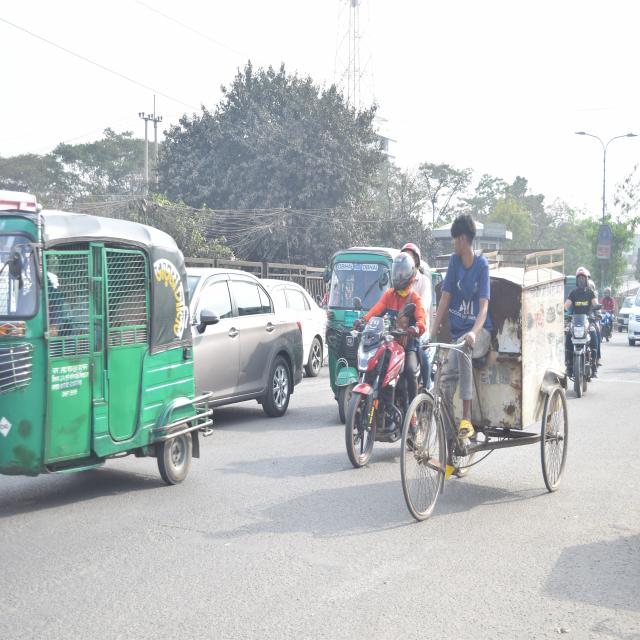car: (180, 258, 303, 428), (286, 262, 328, 384), (627, 287, 640, 345), (613, 292, 632, 331)
motorbike: (342, 294, 430, 478), (560, 294, 602, 402), (599, 298, 615, 340)
